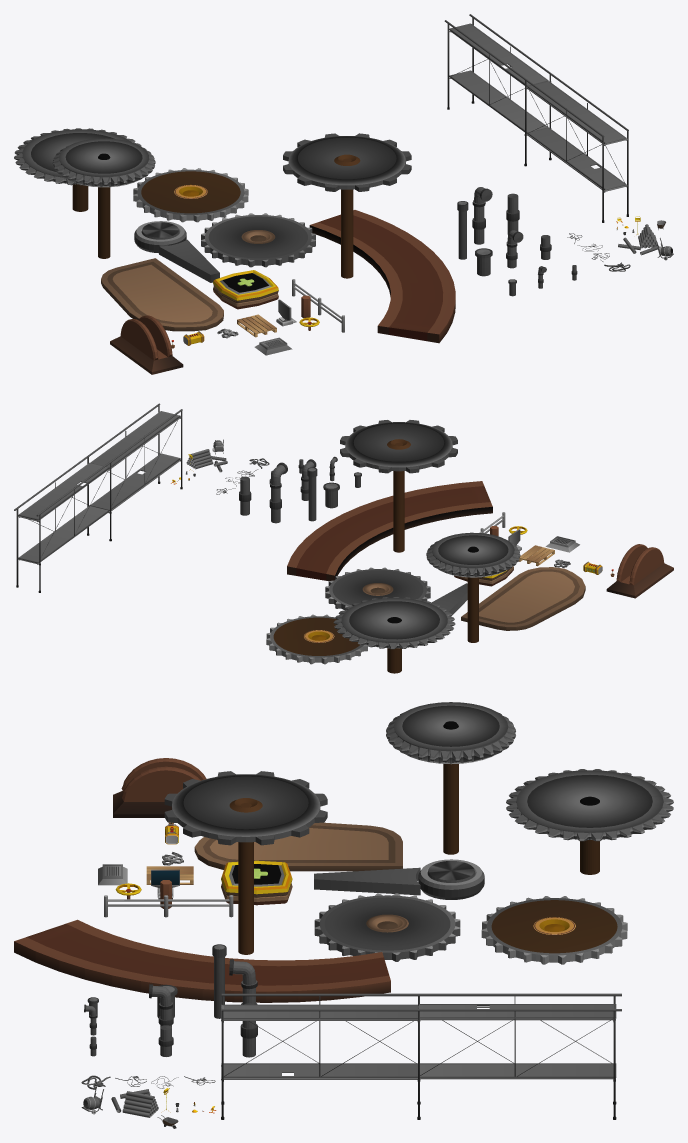
File: ScrewItAsset.fbx
3 renders of one model, top to bottom at view 1: azimuth 30°, elevation 25°; view 2: azimuth 150°, elevation 25°; view 3: azimuth 270°, elevation 25°, orthographic. The views are drawn at different scales.
Visible parts, largest first — view 1: Moduler.005, Cylinder.004, Gear, Cube.005, Cylinder.003, Gear.002, Gear.004, Cylinder, Circle, Cube.003, Cube.002, Cylinder.009 (+3 smaller); view 2: Moduler.005, Cylinder.004, Gear, Cylinder, Cube.005, Cylinder.003, Gear.002, Gear.004, Circle, Cylinder.009, Cube.003, Maın Scaffoıi.144 (+3 smaller); view 3: Moduler.005, Cylinder.004, Gear, Cylinder, Cylinder.003, Gear.002, Gear.004, Cube.005, Cube.003, Circle, Cube.002, Cylinder.002 (+4 smaller).
Part boxes in pixels (x1,y1,x2,y2): Moduler.005: (444,14,628,222); Cylinder.004: (309,210,455,343); Gear: (283,133,411,278); Cube.005: (101,258,223,331); Cylinder.003: (52,138,155,258); Gear.002: (133,168,248,222); Gear.004: (201,213,315,267); Cylinder: (14,128,141,211); Circle: (110,315,183,374); Cube.003: (134,221,219,282); Cube.002: (213,270,278,309); Cylinder.009: (472,187,492,244); Moduler.005: (14,403,182,592); Cylinder.004: (287,481,492,581); Gear: (340,420,457,552); Cylinder: (333,597,455,673); Cube.005: (461,567,585,630); Cylinder.003: (426,532,520,642); Gear.002: (266,614,367,664); Gear.004: (325,567,430,609); Circle: (606,544,673,598); Cylinder.009: (269,462,287,523); Cube.003: (431,583,467,616); Maın Scaffoıi.144: (186,449,227,472); Moduler.005: (221,993,621,1119); Cylinder.004: (14,919,390,1002); Gear: (164,771,327,954); Cylinder: (506,769,673,874); Cylinder.003: (386,702,515,854); Gear.002: (481,896,627,964); Gear.004: (314,893,460,961); Cube.005: (194,822,402,871); Cube.003: (314,859,484,899); Circle: (113,758,206,817); Cube.002: (221,860,292,905); Cylinder.002: (104,895,233,917).
Bounding box in the file's own units: 52.69 × 11.28 × 44.26.
